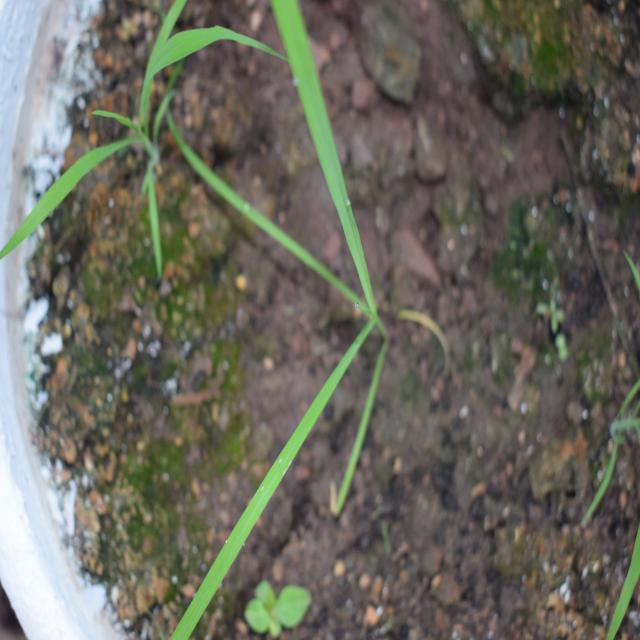barnyard_grass: (80, 0, 392, 628)
